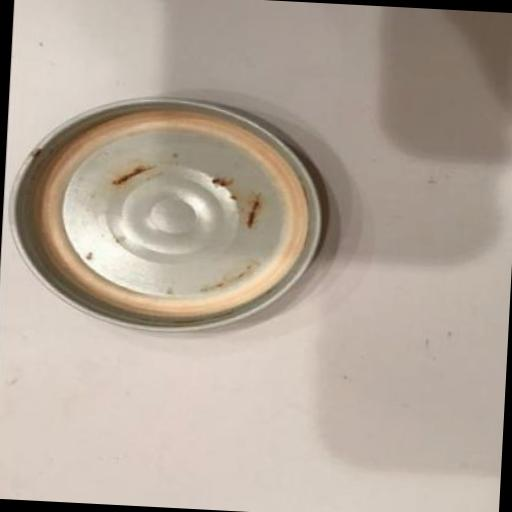metal: (0, 88, 329, 343)
